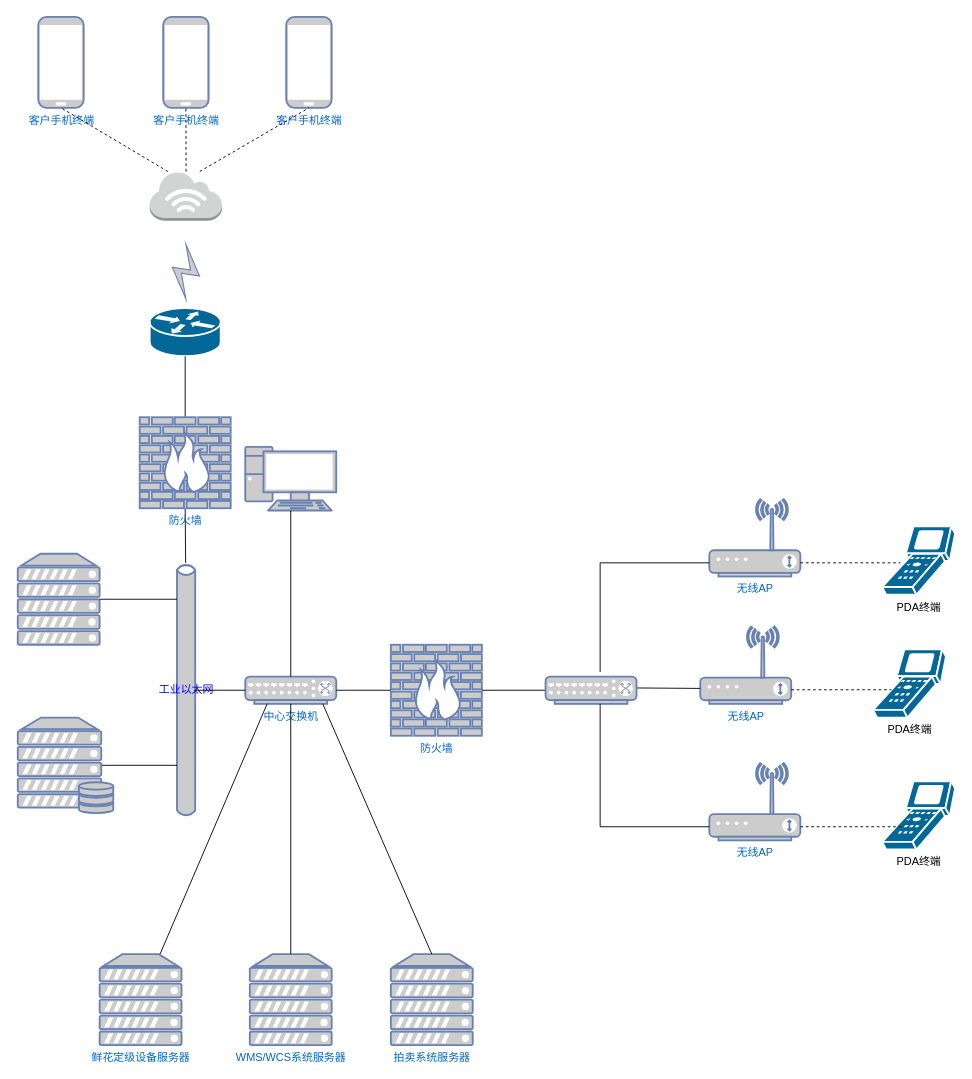
Image size: 972x1079. Some labels were removed from this diagram. Each missing label, with the centre of its shape:
MES系统PC管理端: pixel 290 478
MES系统数据服务器: pixel 65 765
MES系统服务器: pixel 58 598
互联网: pixel 185 196
交换机: pixel 590 689
路由器: pixel 184 332
